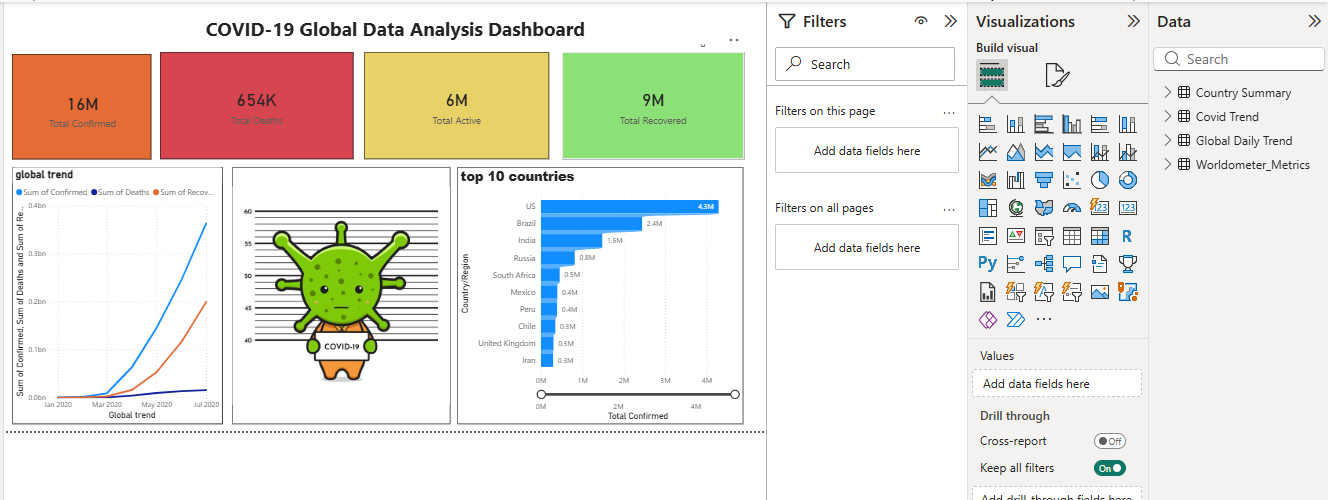

Layout of this report page (visuals, bound fields, positions):
{"tool":"powerbi","page":{"name":"Page 1","canvas":[1280,720],"ordinal":0},"visuals":[{"type":"card","fields":{"Values":["Country Summary.Total Confirmed"]},"box":[13.5,87.5,233.8,176.6],"z":0},{"type":"card","fields":{"Values":["Country Summary.Total Deaths"]},"box":[262.4,84.1,324.6,180],"z":1000},{"type":"card","fields":{"Values":["Country Summary.Total Active"]},"box":[605.5,84.1,311.2,180],"z":2000},{"type":"card","fields":{"Values":["Country Summary.Total Recovered"]},"box":[936.9,84.1,306.1,180],"z":3000},{"type":"lineChart","title":"global trend","fields":{"Y":["Sum(Global Daily Trend.Confirmed)","Sum(Global Daily Trend.Deaths)","Sum(Global Daily Trend.Recovered)"],"Category":["Global Daily Trend.Date.Variation.Date Hierarchy.Year","Global Daily Trend.Date.Variation.Date Hierarchy.Quarter","Global Daily Trend.Date.Variation.Date Hierarchy.Month"]},"box":[13.2,276.6,354.1,431.7],"z":4000},{"type":"barChart","title":"top 10  countries","fields":{"Category":["Country Summary.Country/Region"],"Y":["Country Summary.Total Confirmed"]},"box":[761,276.6,481.5,431.7],"z":5000},{"type":"textbox","box":[99.5,16.1,1116.6,54.1],"z":6000},{"type":"image","box":[383.4,276.6,367.3,431.7],"z":7000}]}

Visuals, with their boxes on the page's 1280x720 design canvas (x1, y1, x2, y2). These are canvas units, not pixel positions in the 1328x500 screenshot, which may show the page scaled, cropped or inside an application window:
card - Country Summary.Total Confirmed: box(14, 88, 247, 264)
card - Country Summary.Total Deaths: box(262, 84, 587, 264)
card - Country Summary.Total Active: box(606, 84, 917, 264)
card - Country Summary.Total Recovered: box(937, 84, 1243, 264)
"global trend" lineChart: box(13, 277, 367, 708)
"top 10  countries" barChart: box(761, 277, 1242, 708)
textbox: box(100, 16, 1216, 70)
image: box(383, 277, 751, 708)
